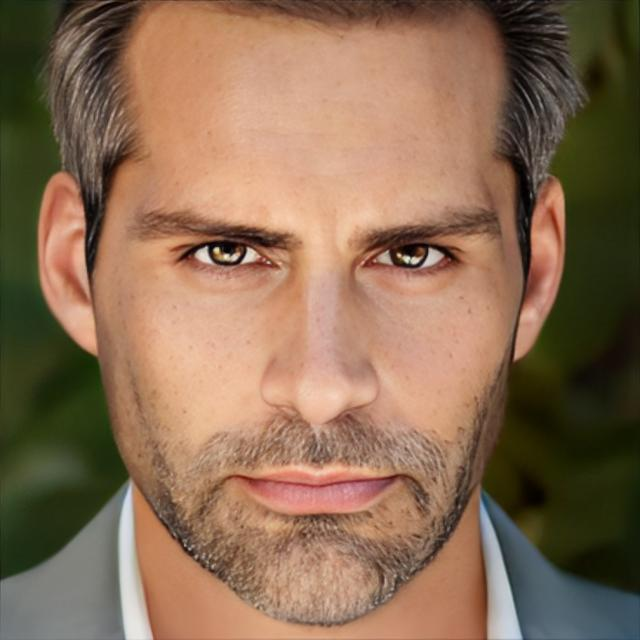anger: (104, 26, 522, 615)
